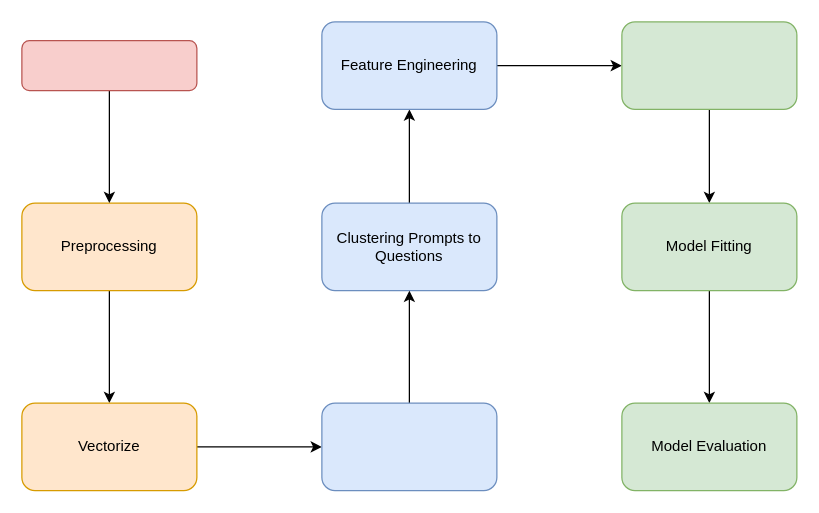
This 819x513 diagram has some shape labels left out. The box of each missing label's shape, as (x1, y1, x2, y2) in pixels:
Feature Selection: (621, 21, 797, 109)
Input Data: (21, 39, 197, 91)
PCA: (321, 402, 497, 491)
